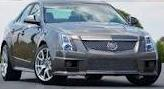front_view: (50, 29, 160, 79)
headlight: (61, 31, 87, 55)
side_glass: (14, 2, 42, 29)
